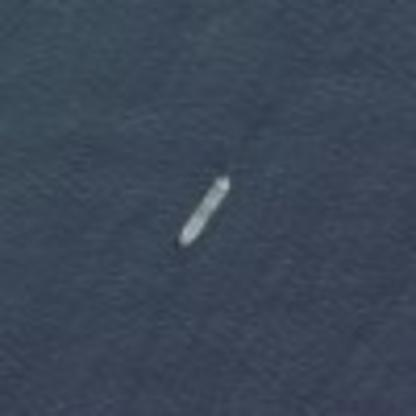ship: (168, 167, 237, 252)
